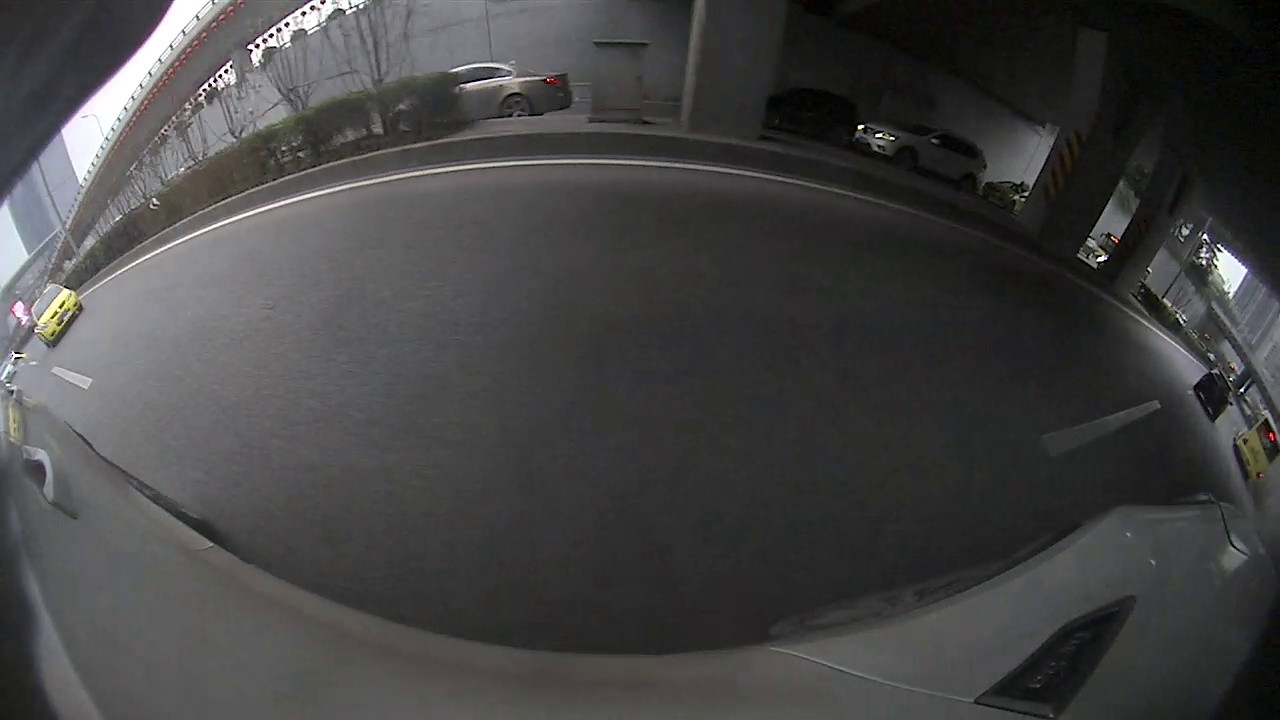car: (853, 117, 987, 191), (452, 58, 571, 123), (762, 83, 861, 147), (27, 283, 83, 348), (1196, 370, 1232, 423)
rear: (501, 93, 535, 120)
